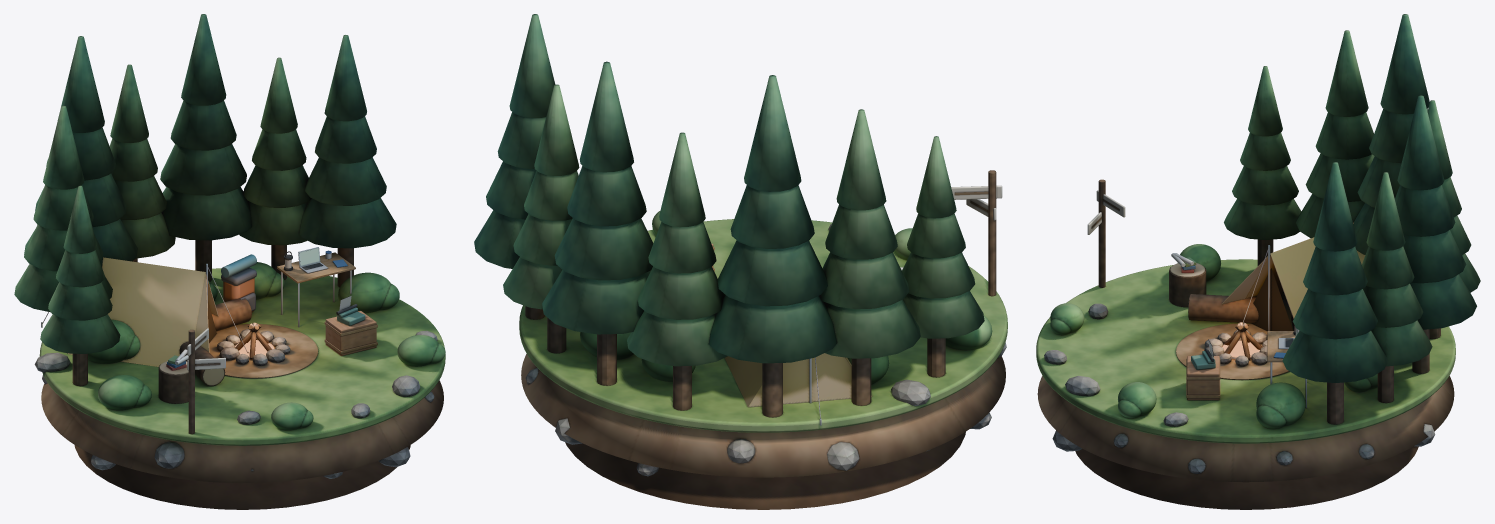
The model's file is camp.glb.
3 renders of one model, left to right at view 1: azimuth 30°, elevation 25°; view 2: azimuth 150°, elevation 25°; view 3: azimuth 270°, elevation 25°, orthographic. The views are drawn at different scales.
Parts seen in each view (by area): view 1: static, tent, typewriter, fire, logs, chest, bookshelf, door, monitor; view 2: static, tent, door; view 3: static, tent, fire, logs, typewriter, bookshelf, door.
Boxes of the visible parts, <box> form: static: <box>14,14,445,509</box>; tent: <box>41,257,249,366</box>; typewriter: <box>324,295,377,355</box>; fire: <box>216,322,290,365</box>; logs: <box>179,298,251,386</box>; chest: <box>221,254,256,312</box>; bookshelf: <box>158,349,188,403</box>; door: <box>187,328,225,434</box>; monitor: <box>298,247,328,273</box>; static: <box>474,14,1007,509</box>; tent: <box>725,353,871,425</box>; door: <box>951,170,1002,296</box>; static: <box>1036,14,1480,509</box>; tent: <box>1221,222,1365,331</box>; fire: <box>1204,322,1267,366</box>; logs: <box>1188,294,1294,330</box>; typewriter: <box>1186,339,1220,400</box>; bookshelf: <box>1169,253,1206,307</box>; door: <box>1087,179,1125,287</box>.
Bounding box in the file's own units: 5.82 × 5.37 × 5.72.
1 material, 1 textured.
